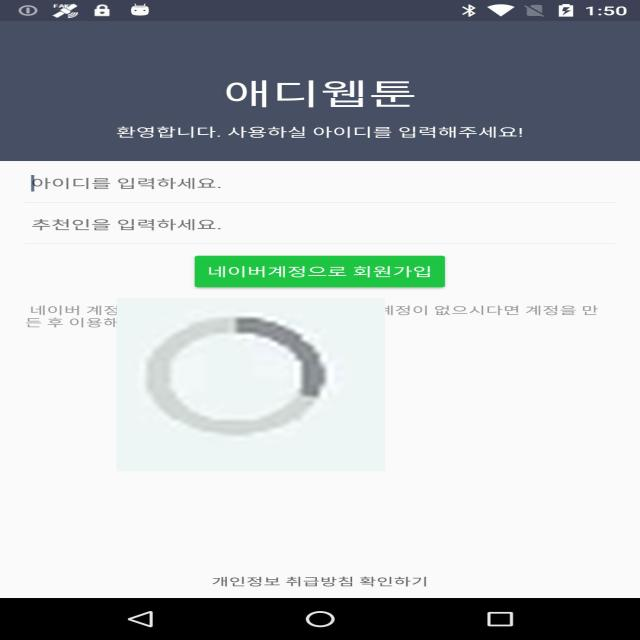misdirection: (117, 298, 385, 471)
